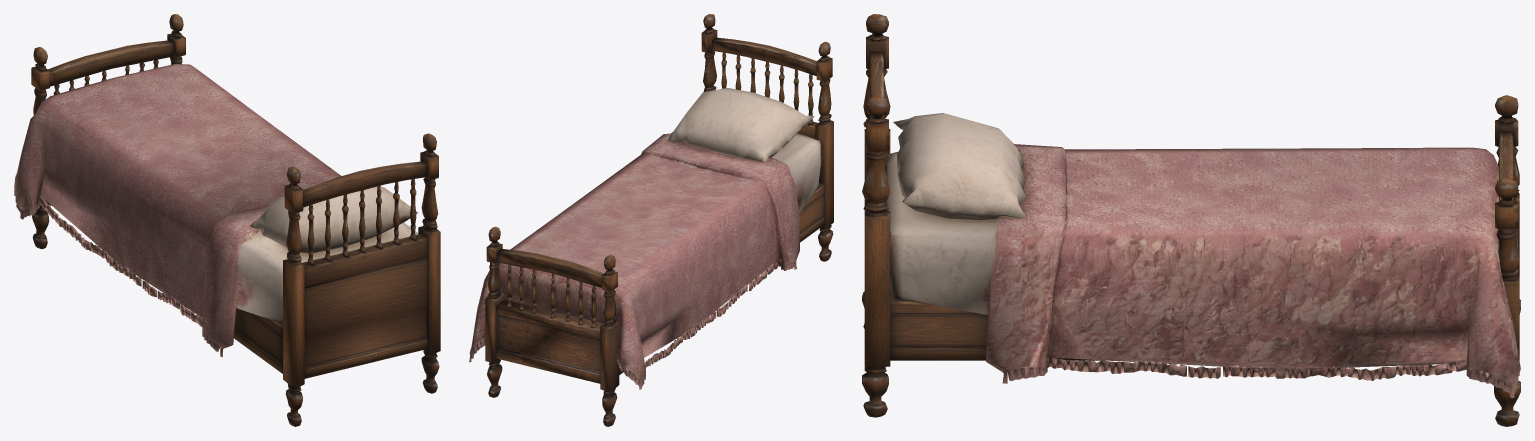
Rendered from furniture-bed-single.glb.
3 renders of one model, left to right at view 1: azimuth 30°, elevation 25°; view 2: azimuth 150°, elevation 25°; view 3: azimuth 270°, elevation 25°, orthographic. The views are drawn at different scales.
Visible parts, largest first — view 1: tripo_node_a14196e7-a8dc-441b-bbe4-30baa798b8f1; view 2: tripo_node_a14196e7-a8dc-441b-bbe4-30baa798b8f1; view 3: tripo_node_a14196e7-a8dc-441b-bbe4-30baa798b8f1.
Boxes of the visible parts, box(x1,y1,x2,y2) form: tripo_node_a14196e7-a8dc-441b-bbe4-30baa798b8f1: box(14, 14, 440, 426); tripo_node_a14196e7-a8dc-441b-bbe4-30baa798b8f1: box(469, 14, 833, 426); tripo_node_a14196e7-a8dc-441b-bbe4-30baa798b8f1: box(862, 14, 1520, 426).
Bounding box in the file's own units: 0.8 × 1.05 × 1.9.
1 material, 1 textured.
